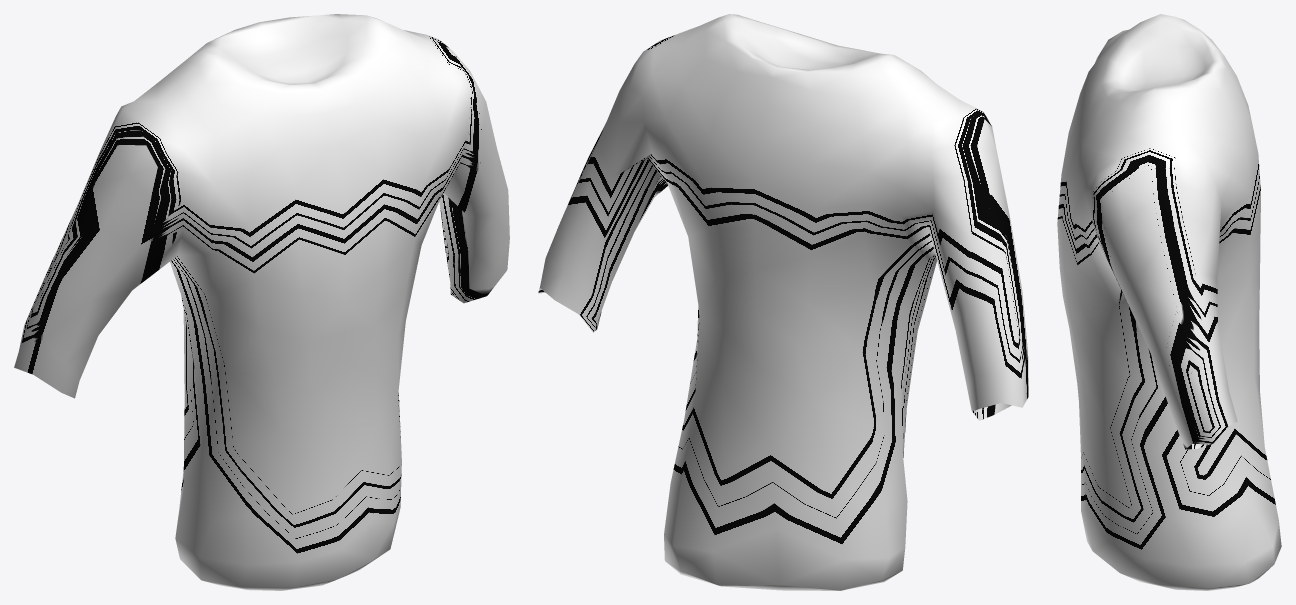
3 renders of one model, left to right at view 1: azimuth 30°, elevation 25°; view 2: azimuth 150°, elevation 25°; view 3: azimuth 270°, elevation 25°, orthographic. The views are drawn at different scales.
Visible parts, largest first — view 1: polo; view 2: polo; view 3: polo.
Boxes of the visible parts, x1,y1,x2,y2 form: polo: (14,14,509,590); polo: (538,14,1028,590); polo: (1057,14,1281,590).
Size of the model in its own units: 0.5111 by 0.5242 by 0.2153.
1 material, 1 textured.
